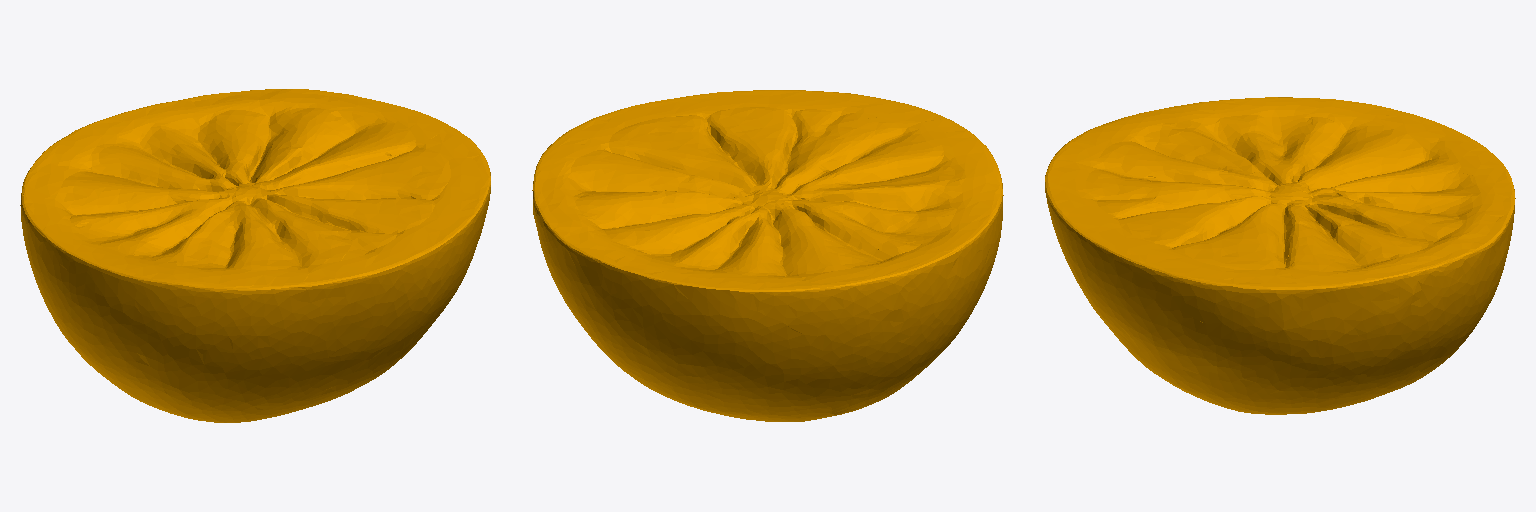
URDF robot description (sample):
<?xml version="1.0" ?>
<robot name="sample">
   <link name="sample">
      <visual>
         <origin xyz="0 0 0" rpy="1.5708 0.0 0.0"/>
         <geometry>
            <mesh filename="mesh/sample.obj" scale="1.0 1.0 1.0"/>
         </geometry>
      </visual>
      <collision>
         <origin xyz="0 0 0" rpy="1.5708 0.0 0.0"/>
         <geometry>
            <mesh filename="mesh/sample_collision.obj" scale="1.0 1.0 1.0"/>
         </geometry>
         <gazebo>
            <mu1>0.40</mu1>
            <mu2>0.30</mu2>
         </gazebo>
      </collision>
      <inertial>
         <mass value="0.2000"/>
         <origin xyz="0 0 0"/>
         <inertia ixx="1.0" ixy="0.0" ixz="0.0" iyy="1.0" iyz="0.0" izz="1.0"/>
      </inertial>
      <extra_info>
         <scale>0.183166</scale>
         <version>v0.1.7</version>
         <category>orange</category>
         <description>half-spherical orange fruit with smooth surface</description>
         <min_height>0.08</min_height>
         <max_height>0.1</max_height>
         <real_height>0.09</real_height>
         <min_mass>0.15</min_mass>
         <max_mass>0.25</max_mass>
         <color>orange</color>
         <rgba>[1.0, 0.65, 0.0, 1.0]</rgba>
         <generate_time>20260526151230</generate_time>
         <gs_model>mesh/sample_gs.ply</gs_model>
      </extra_info>
   </link>
   <custom_data>
      <quality>
         <MeshGeoChecker>NO: the object is incomplete, missing the bottom half.</MeshGeoChecker>
         <ImageSegChecker>NO, missing objects and incomplete segmentation.</ImageSegChecker>
         <ImageAestheticChecker>4.092485785484314</ImageAestheticChecker>
         <overall>NO</overall>
      </quality>
   </custom_data>
</robot>

--- What the picture shows (computed from the rendered views, not written in the file) ---
3 views of the same robot in one strip: view 1: azimuth 30°, elevation 25°; view 2: azimuth 150°, elevation 25°; view 3: azimuth 270°, elevation 25° (orthographic).
Model sample with 1 links and 0 joints (none), rooted at sample, posed all joints at 0.
Visible links, largest first — view 1: sample; view 2: sample; view 3: sample.
Link boxes in pixels (box(x1,y1,x2,y2)): sample: box(20, 89, 490, 422); sample: box(532, 90, 1003, 421); sample: box(1045, 97, 1515, 414).
Size in the robot's own frame: 0.1832 by 0.1817 by 0.09 metres.
Meshes: 1 distinct files referenced, 1 mesh visuals loaded (1 OBJ).
